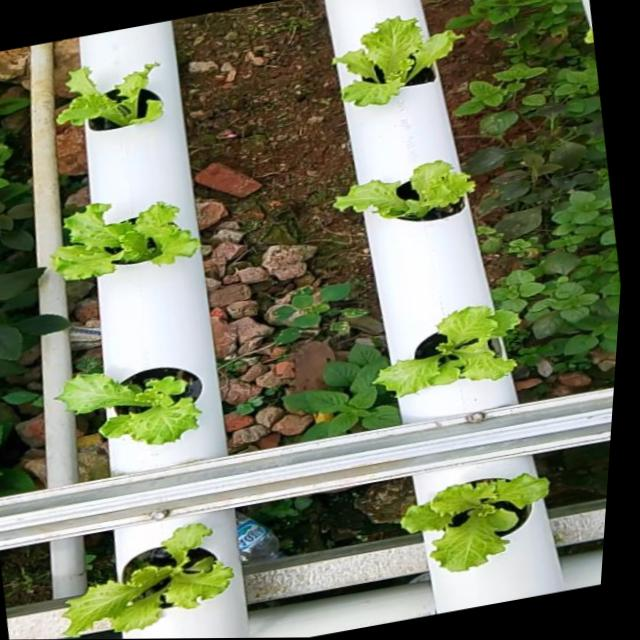Baby: (58, 521, 230, 635), (400, 457, 549, 573), (370, 306, 520, 399), (55, 204, 204, 283), (336, 20, 466, 110), (60, 369, 207, 447), (337, 163, 479, 224), (61, 67, 166, 134)
